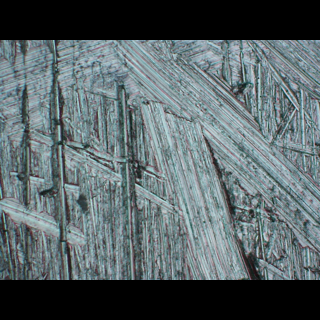d: (1, 40, 319, 277)
